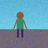person: (14, 12, 27, 37)
